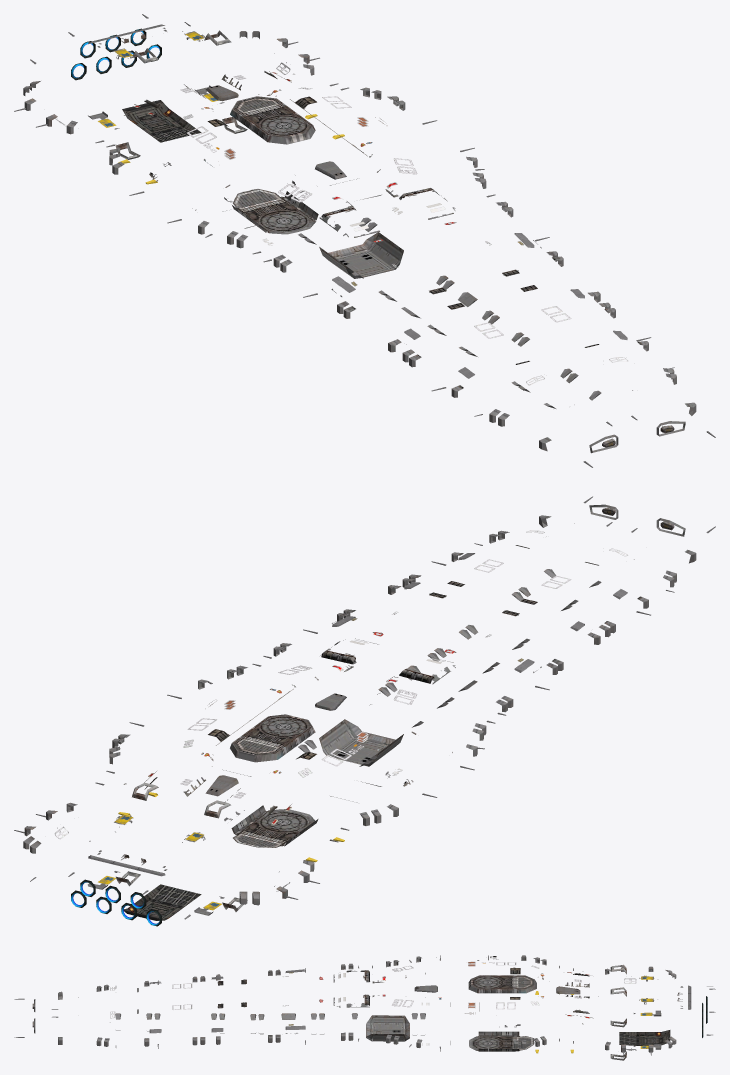
File: Goblins.obj
The picture shows the model from 3 angles, top to bottom: view 1: azimuth 30°, elevation 25°; view 2: azimuth 150°, elevation 25°; view 3: azimuth 270°, elevation 25°; orthographic projection. The views are drawn at different scales.
Parts seen in each view (by area): view 1: Hgn_BattleCruiser_Main, thruster; view 2: Hgn_BattleCruiser_Main, thruster; view 3: Hgn_BattleCruiser_Main.
Boxes of the visible parts, x1=… form: Hgn_BattleCruiser_Main: x1=14, y1=14, x2=715, y2=467; thruster: x1=71, y1=28, x2=161, y2=80; Hgn_BattleCruiser_Main: x1=14, y1=496, x2=715, y2=920; thruster: x1=71, y1=879, x2=161, y2=926; Hgn_BattleCruiser_Main: x1=14, y1=955, x2=715, y2=1060.
Bounding box in the file's own units: 311 × 99.44 × 961.
